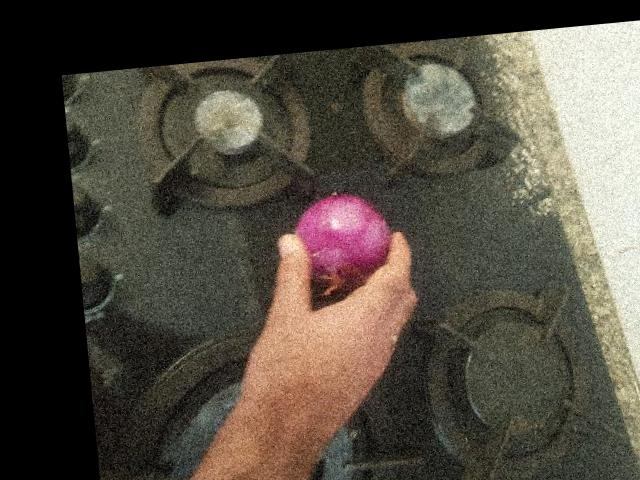onion: (468, 85, 565, 183)
